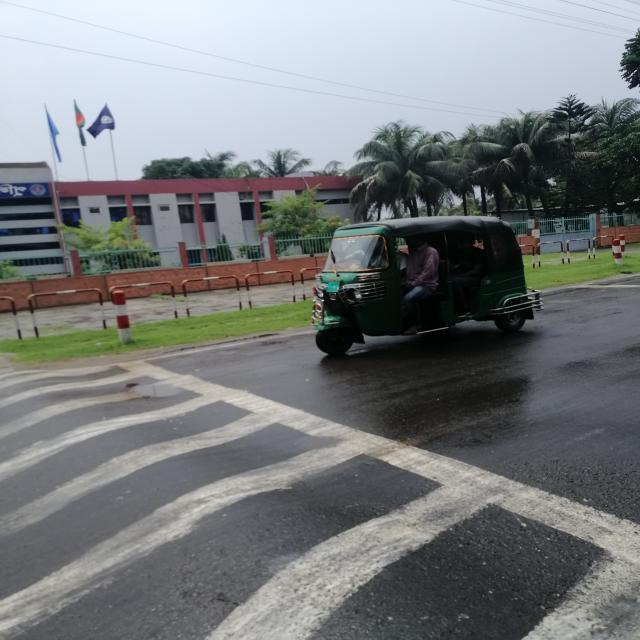CNG: (296, 210, 541, 358)
